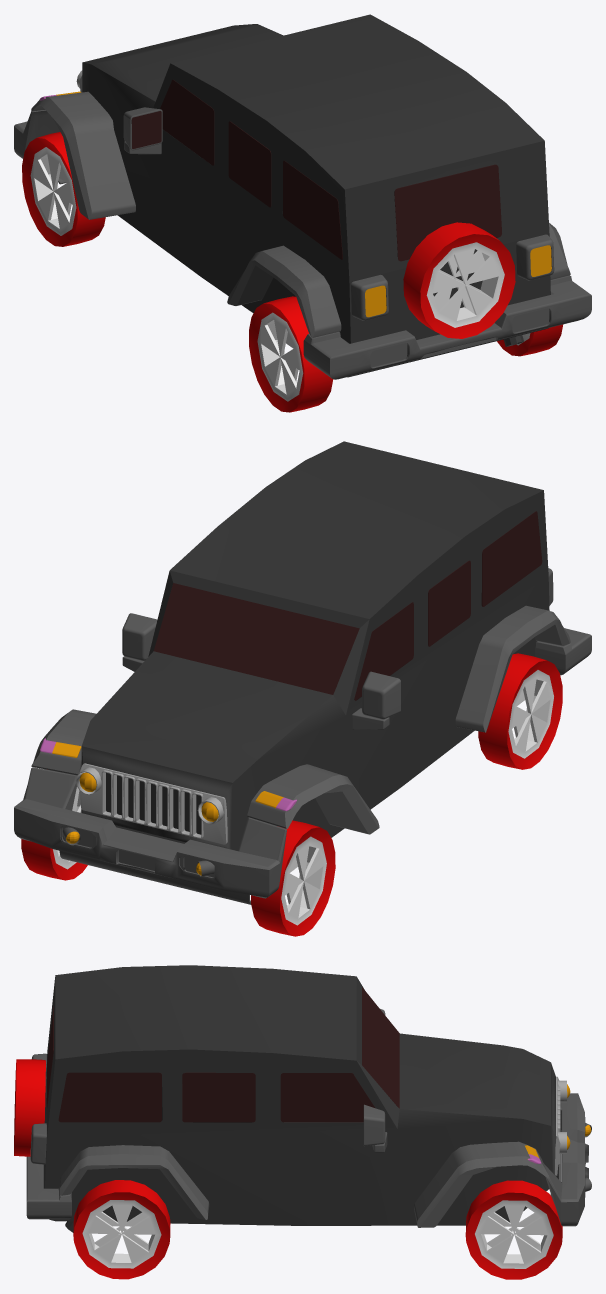
The model's file is Car.fbx.
3 renders of one model, top to bottom at view 1: azimuth 30°, elevation 25°; view 2: azimuth 150°, elevation 25°; view 3: azimuth 270°, elevation 25°, orthographic. The views are drawn at different scales.
Visible parts, largest first — view 1: Jeep_Main_Body, Jeep_Spare_Tire, Jeep_Back_Bumper, Jeep_Back_Tires, Jeep_Front_Left_Bumper, Jeep_Back_Window, Jeep_Front_Tires, Jeep_Back_Left_Bumper, Jeep_Back_Left_Window, Jeep_Front_Left_Window, Jeep_Middle_Left_Window, Jeep_Right_Back_Light (+4 smaller); view 2: Jeep_Main_Body, Jeep_Front_Bumper, Jeep_WindShield, Jeep_Front_Tires, Jeep_Back_Tires, Jeep_Grill_And_Top_Light, Jeep_Back_Left_Bumper, Jeep_Front_Left_Bumper, Jeep_Back_Left_Window, Jeep_Front_Left_Window, Jeep_Front_Right_Bumper, Jeep_Middle_Left_Window (+4 smaller); view 3: Jeep_Main_Body, Jeep_Back_Tires, Jeep_Front_Tires, Jeep_Back_Right_Window, Jeep_Front_Right_Bumper, Jeep_Front_Right_Window, Jeep_Back_Right_Bumper, Jeep_Middle_Right_Window, Jeep_Front_Bumper, Jeep_WindShield, Jeep_Spare_Tire, Jeep_Back_Bumper (+3 smaller).
Part boxes in pixels (box(x1,y1,x2,y2)): Jeep_Main_Body: box(82, 14, 550, 377); Jeep_Spare_Tire: box(403, 222, 515, 338); Jeep_Back_Bumper: box(303, 275, 591, 379); Jeep_Back_Tires: box(249, 296, 563, 412); Jeep_Front_Left_Bumper: box(31, 91, 135, 219); Jeep_Back_Window: box(394, 164, 501, 261); Jeep_Front_Tires: box(22, 132, 105, 246); Jeep_Back_Left_Bumper: box(227, 245, 341, 337); Jeep_Back_Left_Window: box(283, 160, 342, 259); Jeep_Front_Left_Window: box(160, 79, 214, 165); Jeep_Middle_Left_Window: box(228, 121, 271, 207); Jeep_Right_Back_Light: box(516, 234, 554, 280); Jeep_Main_Body: box(81, 441, 549, 850); Jeep_Front_Bumper: box(14, 767, 286, 898); Jeep_WindShield: box(154, 583, 359, 694); Jeep_Front_Tires: box(21, 787, 335, 936); Jeep_Back_Tires: box(478, 653, 562, 769); Jeep_Grill_And_Top_Light: box(75, 763, 227, 844); Jeep_Back_Left_Bumper: box(455, 605, 570, 732); Jeep_Front_Left_Bumper: box(247, 764, 379, 834); Jeep_Back_Left_Window: box(481, 511, 542, 606); Jeep_Front_Left_Window: box(354, 602, 413, 700); Jeep_Front_Right_Bumper: box(31, 709, 96, 775); Jeep_Middle_Left_Window: box(428, 560, 470, 646); Jeep_Main_Body: box(44, 965, 556, 1225); Jeep_Back_Tires: box(73, 1180, 170, 1279); Jeep_Front_Tires: box(465, 1180, 562, 1279); Jeep_Back_Right_Window: box(58, 1072, 161, 1122); Jeep_Front_Right_Bumper: box(414, 1141, 548, 1227); Jeep_Front_Right_Window: box(280, 1073, 375, 1122); Jeep_Back_Right_Bumper: box(59, 1145, 209, 1219); Jeep_Middle_Right_Window: box(182, 1072, 255, 1122); Jeep_Front_Bumper: box(544, 1093, 588, 1226); Jeep_WindShield: box(362, 987, 399, 1108); Jeep_Spare_Tire: box(14, 1059, 45, 1156); Jeep_Back_Bumper: box(26, 1156, 71, 1219).
Bounding box in the file's own units: 88.22 × 73.46 × 176.
